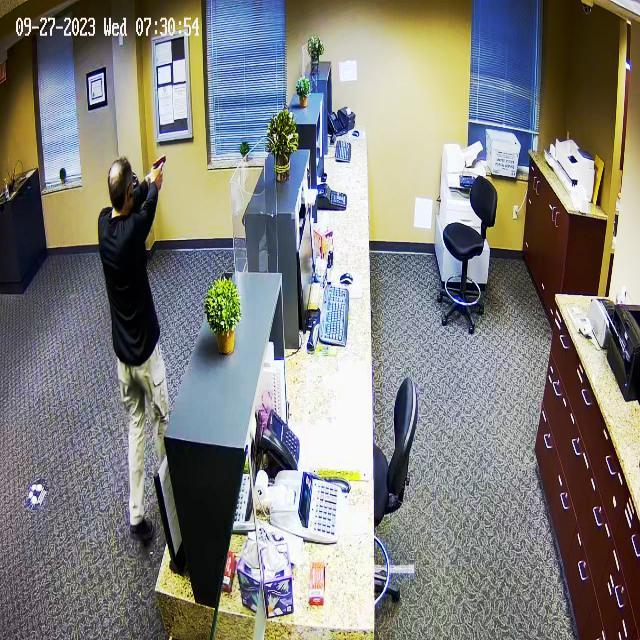Gun: (142, 153, 182, 179)
